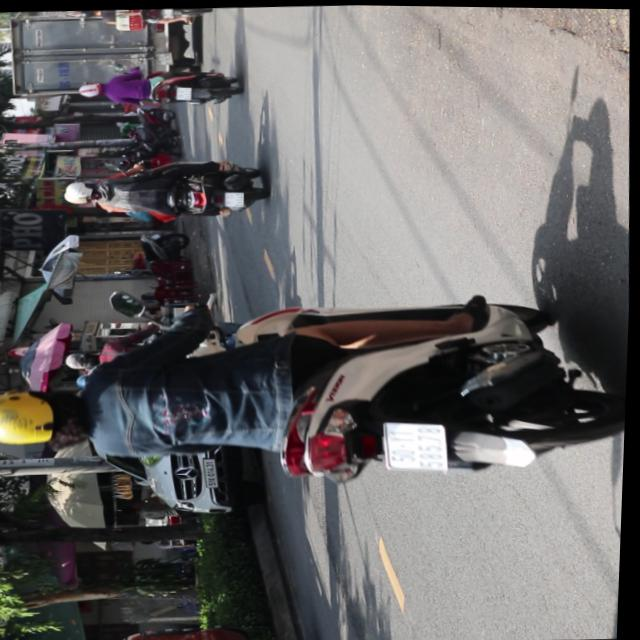helmet: (0, 384, 96, 450), (66, 178, 105, 201), (65, 349, 104, 371), (77, 81, 106, 98)
licenseplate: (0, 277, 632, 502), (60, 153, 272, 226), (76, 63, 243, 110)
nohelmet: (387, 420, 448, 469), (225, 190, 244, 206), (175, 86, 192, 99)
